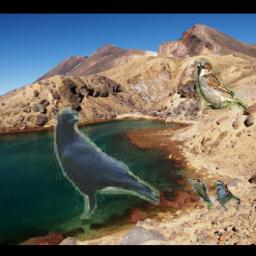Crow: (54, 107, 160, 219)
Cuckoo: (189, 179, 215, 211)
Sparrow: (196, 59, 248, 109), (214, 181, 240, 213)
